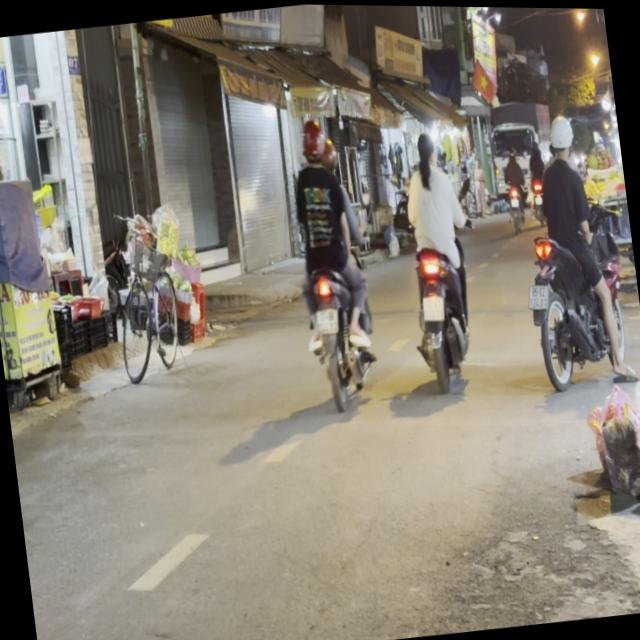helmet: (544, 110, 576, 158), (296, 114, 327, 163)
licenseplate: (504, 103, 635, 391), (276, 109, 384, 411), (388, 120, 483, 391)
motorcyclist: (411, 127, 436, 170)
nohelmet: (420, 292, 445, 320), (526, 280, 551, 307), (313, 306, 338, 333)
